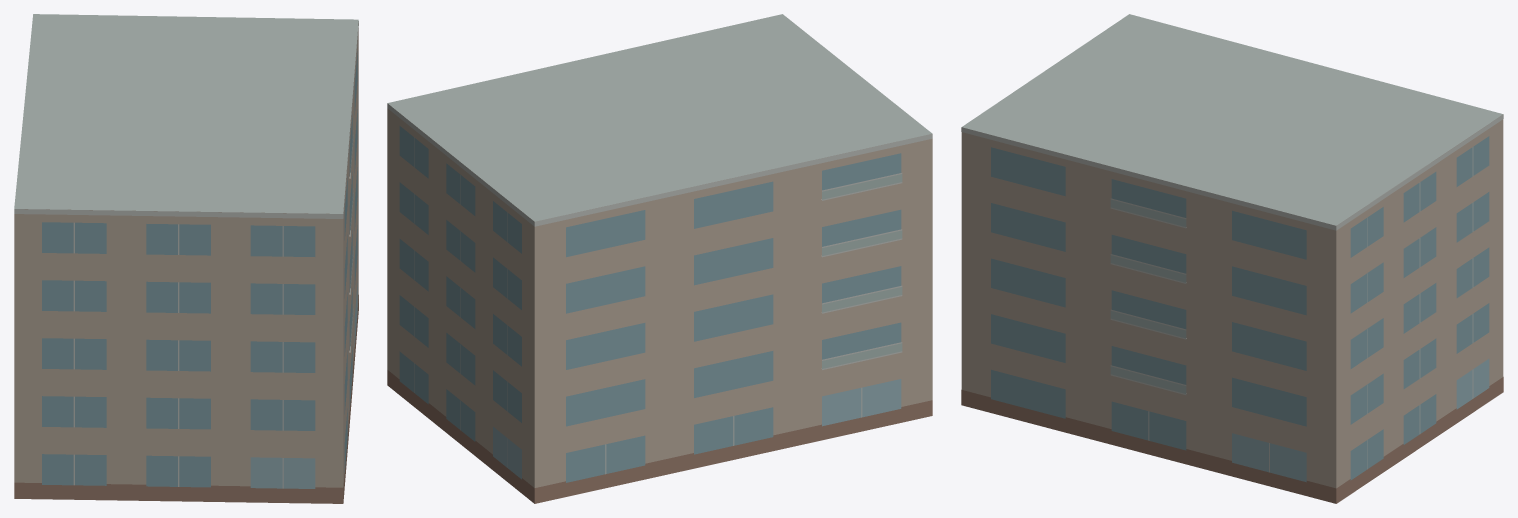
Rendered from survey-upis-32776662.glb.
3 renders of one model, left to right at view 1: azimuth 30°, elevation 25°; view 2: azimuth 150°, elevation 25°; view 3: azimuth 270°, elevation 25°, orthographic. The views are drawn at different scales.
Visible parts, largest first — view 1: survey-upis-32776662.tmp; view 2: survey-upis-32776662.tmp; view 3: survey-upis-32776662.tmp.
Boxes of the visible parts, box(x1,y1,x2,y2) form: survey-upis-32776662.tmp: box(14, 14, 358, 503); survey-upis-32776662.tmp: box(387, 14, 932, 503); survey-upis-32776662.tmp: box(961, 14, 1503, 503).
Bounding box in the file's own units: 22.71 × 13.9 × 24.56.
